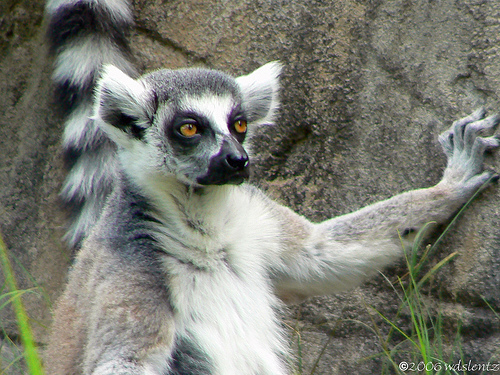cat: (43, 1, 499, 374)
